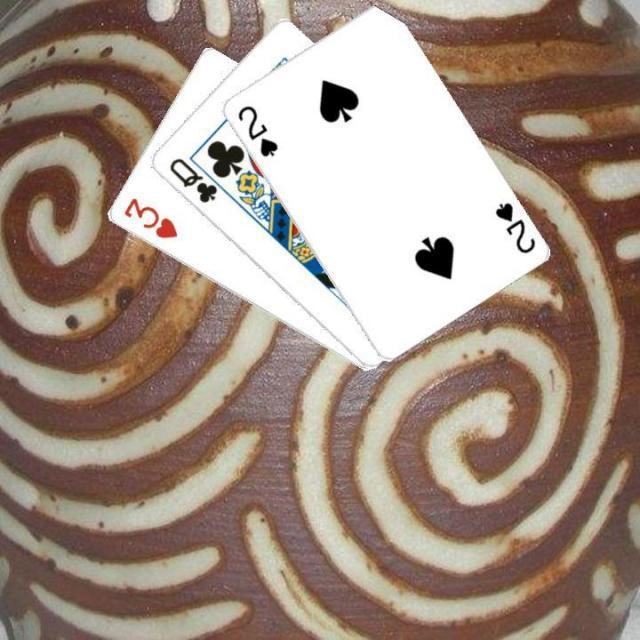2S: (233, 101, 280, 159), (490, 198, 537, 256)
3H: (120, 194, 180, 241)
QC: (164, 154, 220, 206)
